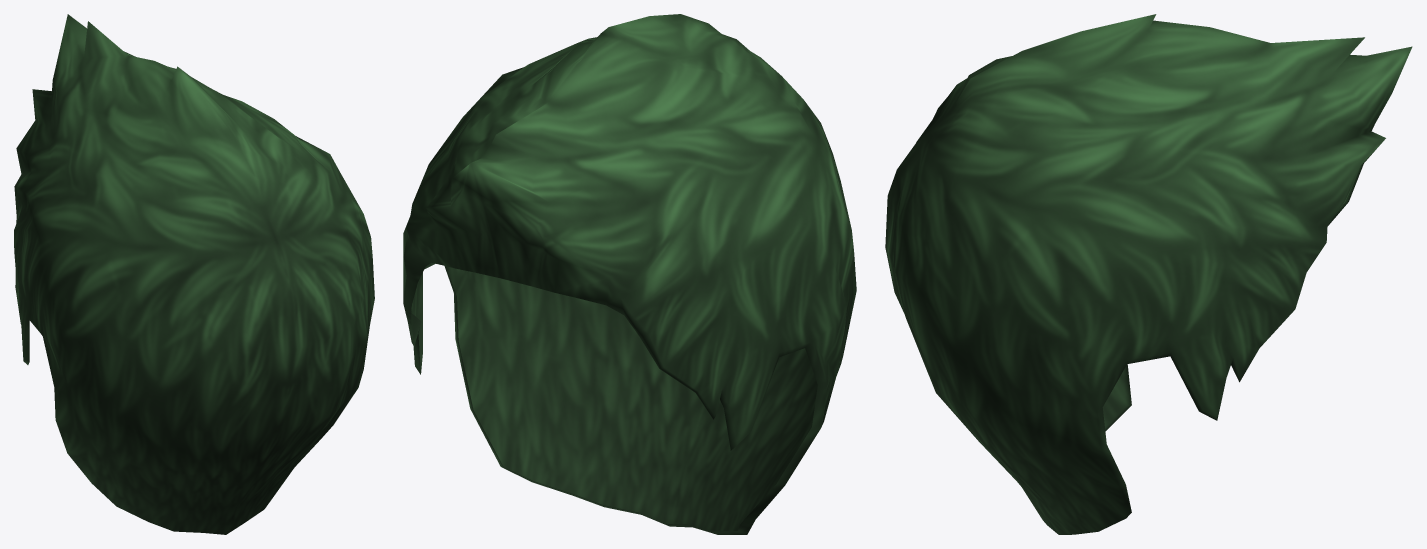
File: Hair_Male_005_textured_green.glb
3 views of the same model, side by side, from view 1: azimuth 30°, elevation 25°; view 2: azimuth 150°, elevation 25°; view 3: azimuth 270°, elevation 25° (orthographic). The views are drawn at different scales.
Parts seen in each view (by area): view 1: Hair_Male_005; view 2: Hair_Male_005; view 3: Hair_Male_005.
Part boxes in pixels (x1,y1,x2,y2): Hair_Male_005: (14,14,374,534); Hair_Male_005: (403,14,856,534); Hair_Male_005: (885,14,1412,534).
Size of the model in its own units: 0.1845 by 0.2501 by 0.2361.
1 material, 1 textured.
